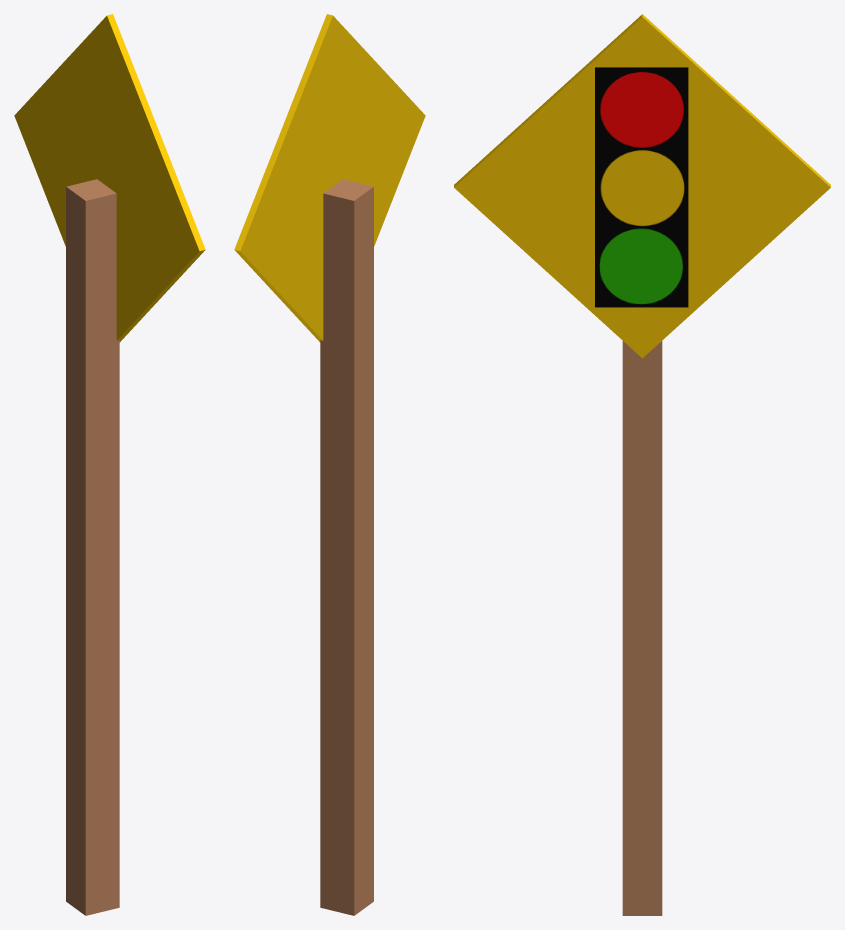
File: sign11.fbx
The picture shows the model from 3 angles, left to right: view 1: azimuth 30°, elevation 25°; view 2: azimuth 150°, elevation 25°; view 3: azimuth 270°, elevation 25°; orthographic projection.
Parts seen in each view (by area): view 1: Cylinder.013_Cylinder.001; view 2: Cylinder.013_Cylinder.001; view 3: Cylinder.013_Cylinder.001.
Part boxes in pixels (x1,y1,x2,y2): Cylinder.013_Cylinder.001: (14,14,205,915); Cylinder.013_Cylinder.001: (234,14,425,915); Cylinder.013_Cylinder.001: (454,14,830,915).
Bounding box in the file's own units: 17.07 × 389 × 148.
